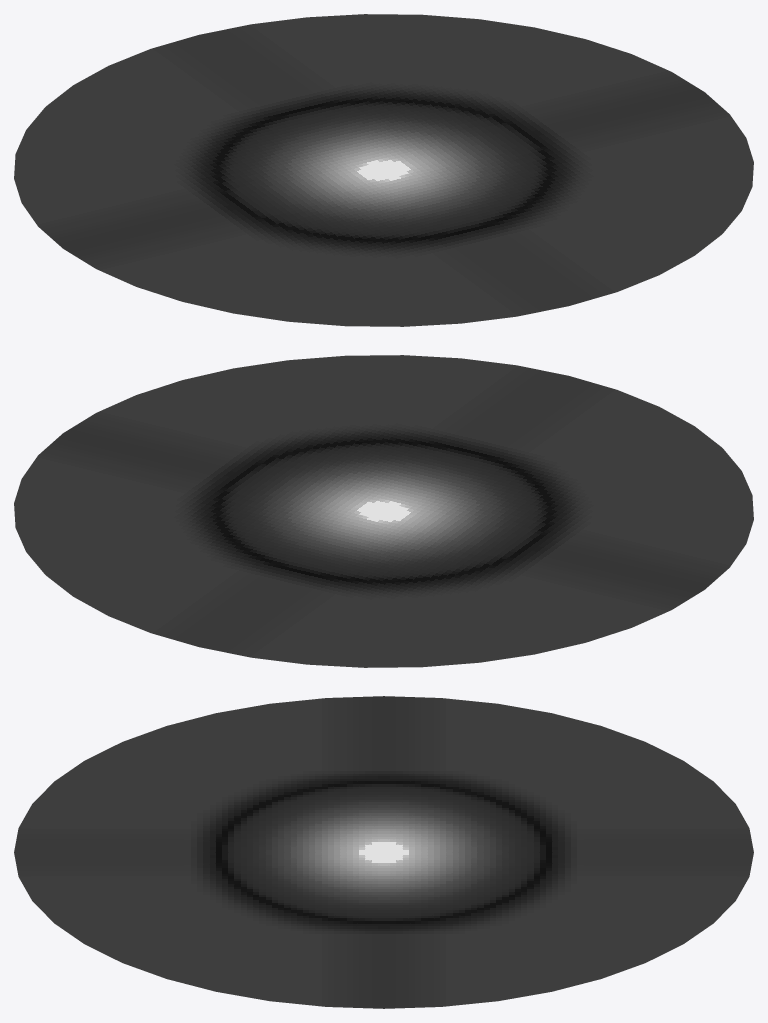
Rendered from glf_mato__glf_matoWATER_C.glb.
3 views of the same model, one above another, from view 1: azimuth 30°, elevation 25°; view 2: azimuth 150°, elevation 25°; view 3: azimuth 270°, elevation 25° (orthographic).
Parts seen in each view (by area): view 1: polygon0; view 2: polygon0; view 3: polygon0.
Part boxes in pixels (<box>): polygon0: <box>14,14,753,326</box>; polygon0: <box>14,355,753,667</box>; polygon0: <box>14,696,753,1008</box>.
Size of the model in its own units: 434 by 5.96e-06 by 434.
Materials: 1 (1 with a texture image).
